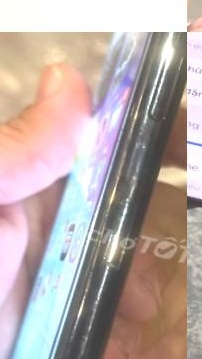scratch: (59, 185, 159, 359), (107, 109, 172, 192), (170, 49, 187, 76)
